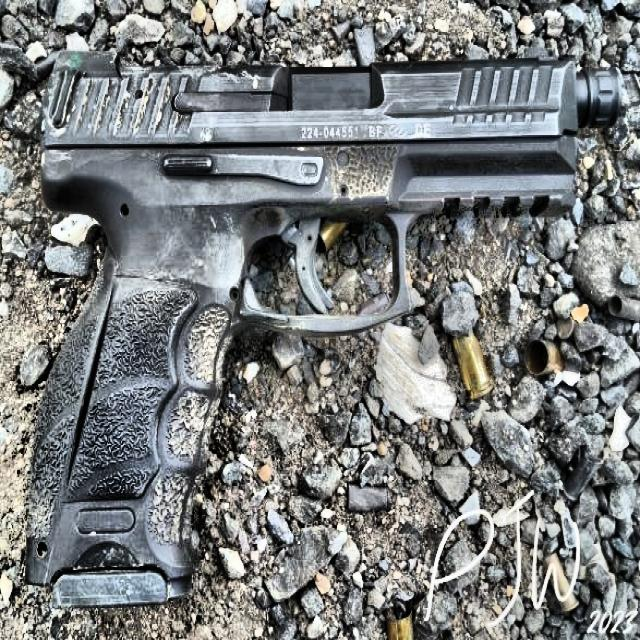HKVP9: (23, 46, 622, 610)
